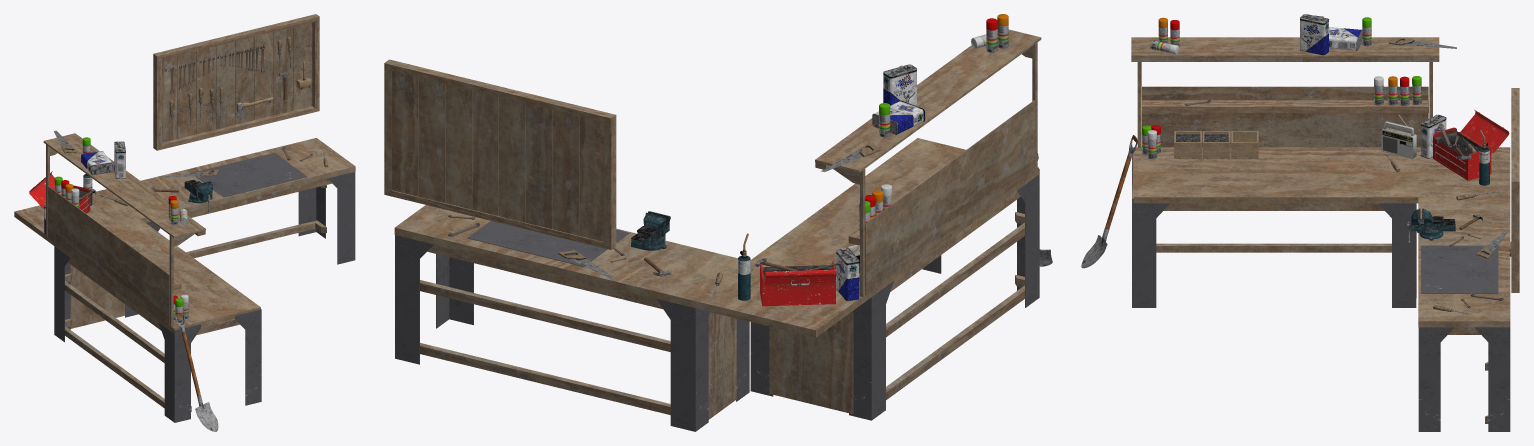
File: garage-desk.glb
3 renders of one model, left to right at view 1: azimuth 30°, elevation 25°; view 2: azimuth 150°, elevation 25°; view 3: azimuth 270°, elevation 25°, orthographic. The views are drawn at different scales.
Visible parts, largest first — view 1: Object_6, Object_12, Object_0, Object_69, Object_131, Object_144, Object_164, Object_134, Object_100, Object_117, Object_165; view 2: Object_6, Object_12, Object_0, Object_134, Object_164, Object_144, Object_117, Object_165; view 3: Object_12, Object_6, Object_0, Object_134, Object_164, Object_132, Object_144, Object_168, Object_131, Object_117, Object_135, Object_165.
Boxes of the visible parts, x1,y1,x2,y2 form: Object_6: [46, 22, 331, 411]; Object_12: [14, 14, 355, 333]; Object_0: [54, 45, 355, 422]; Object_69: [170, 46, 312, 181]; Object_131: [175, 313, 218, 431]; Object_144: [54, 145, 188, 322]; Object_164: [44, 144, 125, 233]; Object_134: [29, 171, 90, 213]; Object_100: [116, 36, 328, 206]; Object_117: [184, 181, 213, 203]; Object_165: [44, 141, 125, 234]; Object_6: [391, 42, 1037, 419]; Object_12: [384, 29, 1041, 337]; Object_0: [395, 169, 1039, 431]; Object_134: [760, 261, 836, 306]; Object_164: [836, 70, 924, 300]; Object_144: [859, 25, 1008, 233]; Object_117: [631, 211, 670, 250]; Object_165: [836, 64, 925, 301]; Object_12: [1131, 37, 1519, 327]; Object_6: [1131, 57, 1488, 423]; Object_0: [1132, 153, 1510, 431]; Object_134: [1433, 110, 1509, 180]; Object_164: [1300, 19, 1446, 158]; Object_132: [1174, 131, 1258, 158]; Object_144: [1142, 26, 1421, 159]; Object_168: [1381, 115, 1416, 158]; Object_131: [1081, 135, 1137, 268]; Object_117: [1411, 208, 1455, 240]; Object_135: [1434, 131, 1481, 156]; Object_165: [1300, 14, 1446, 158].
Bounding box in the file's own units: 1.59 × 1.07 × 1.67.
32 materials, 32 textured.
